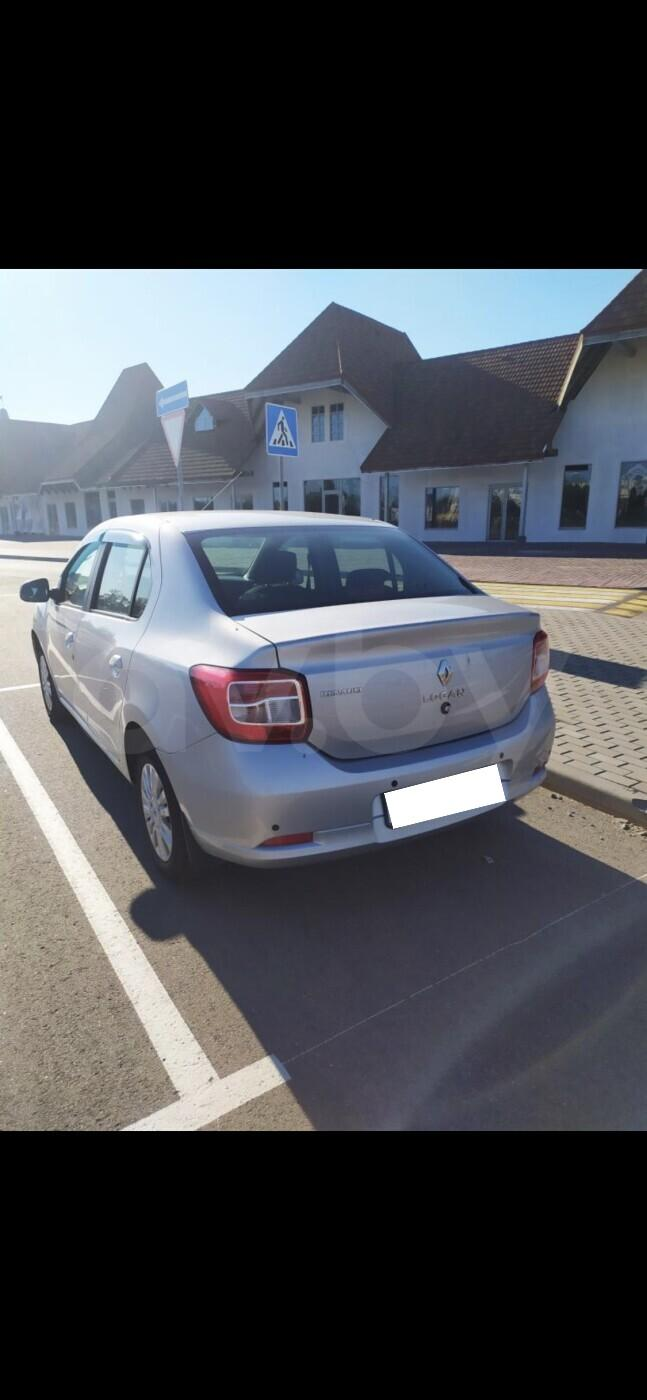Logan_2013-2018: (24, 504, 570, 892)
